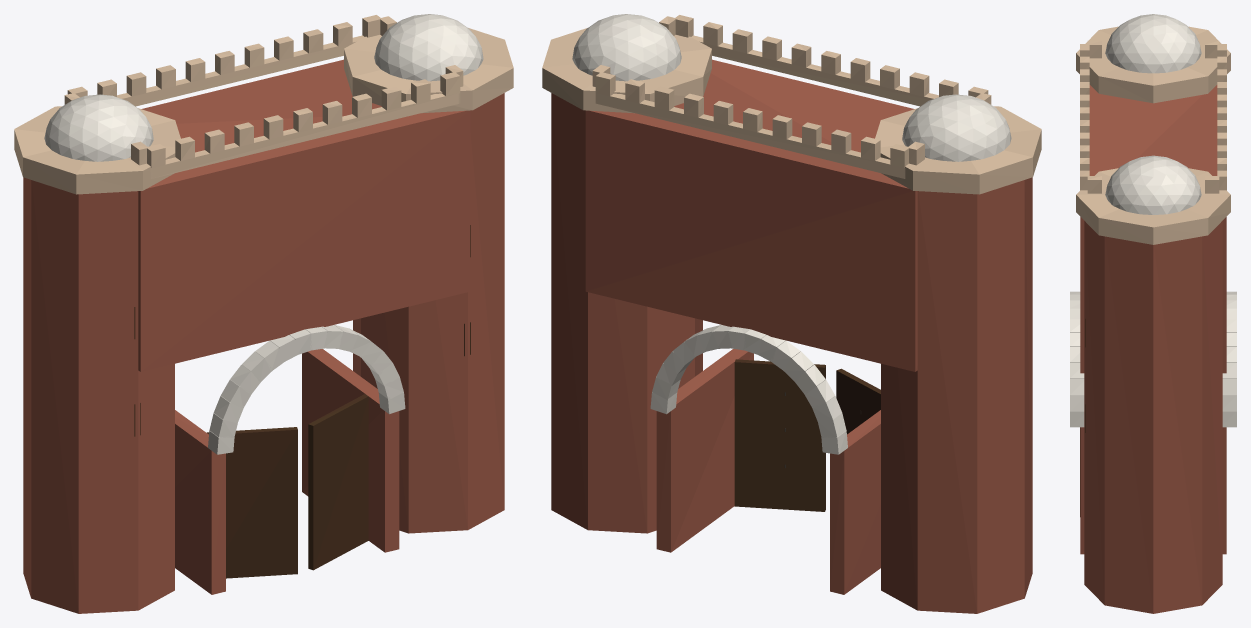
File: pol_arched_gateway.glb
3 renders of one model, left to right at view 1: azimuth 30°, elevation 25°; view 2: azimuth 150°, elevation 25°; view 3: azimuth 270°, elevation 25°, orthographic. The views are drawn at different scales.
Visible parts, largest first — view 1: Towers_primary, Gallery, Doors, Parapet, PortalWalls, Towers_secondary, TowerCaps, Portal; view 2: Towers_primary, Gallery, PortalWalls, Parapet, Doors, Towers_secondary, TowerCaps, Portal; view 3: Towers_primary, Gallery, Towers_secondary, TowerCaps, Parapet, Portal, PortalWalls.
Part boxes in pixels (x1=…): Towers_primary: x1=23, y1=93, x2=504, y2=613; Gallery: x1=138, y1=59, x2=470, y2=371; Doors: x1=207, y1=394, x2=368, y2=578; Parapet: x1=64, y1=15, x2=463, y2=178; PortalWalls: x1=175, y1=349, x2=399, y2=594; Towers_secondary: x1=14, y1=28, x2=513, y2=194; TowerCaps: x1=44, y1=14, x2=483, y2=161; Portal: x1=208, y1=325, x2=405, y2=454; Towers_primary: x1=551, y1=93, x2=1032, y2=613; Gallery: x1=585, y1=59, x2=917, y2=371; PortalWalls: x1=656, y1=349, x2=880, y2=594; Parapet: x1=592, y1=15, x2=991, y2=178; Doors: x1=734, y1=359, x2=880, y2=511; Towers_secondary: x1=542, y1=28, x2=1041, y2=194; TowerCaps: x1=572, y1=14, x2=1011, y2=161; Portal: x1=650, y1=325, x2=847, y2=454; Towers_primary: x1=1084, y1=221, x2=1222, y2=613; Gallery: x1=1080, y1=85, x2=1226, y2=373; Towers_secondary: x1=1076, y1=26, x2=1230, y2=244; TowerCaps: x1=1105, y1=14, x2=1201, y2=214; Parapet: x1=1080, y1=40, x2=1226, y2=193; Portal: x1=1070, y1=291, x2=1236, y2=427; PortalWalls: x1=1080, y1=427, x2=1226, y2=554.
Bounding box in the file's own units: 10.13 × 9.67 × 3.45.
